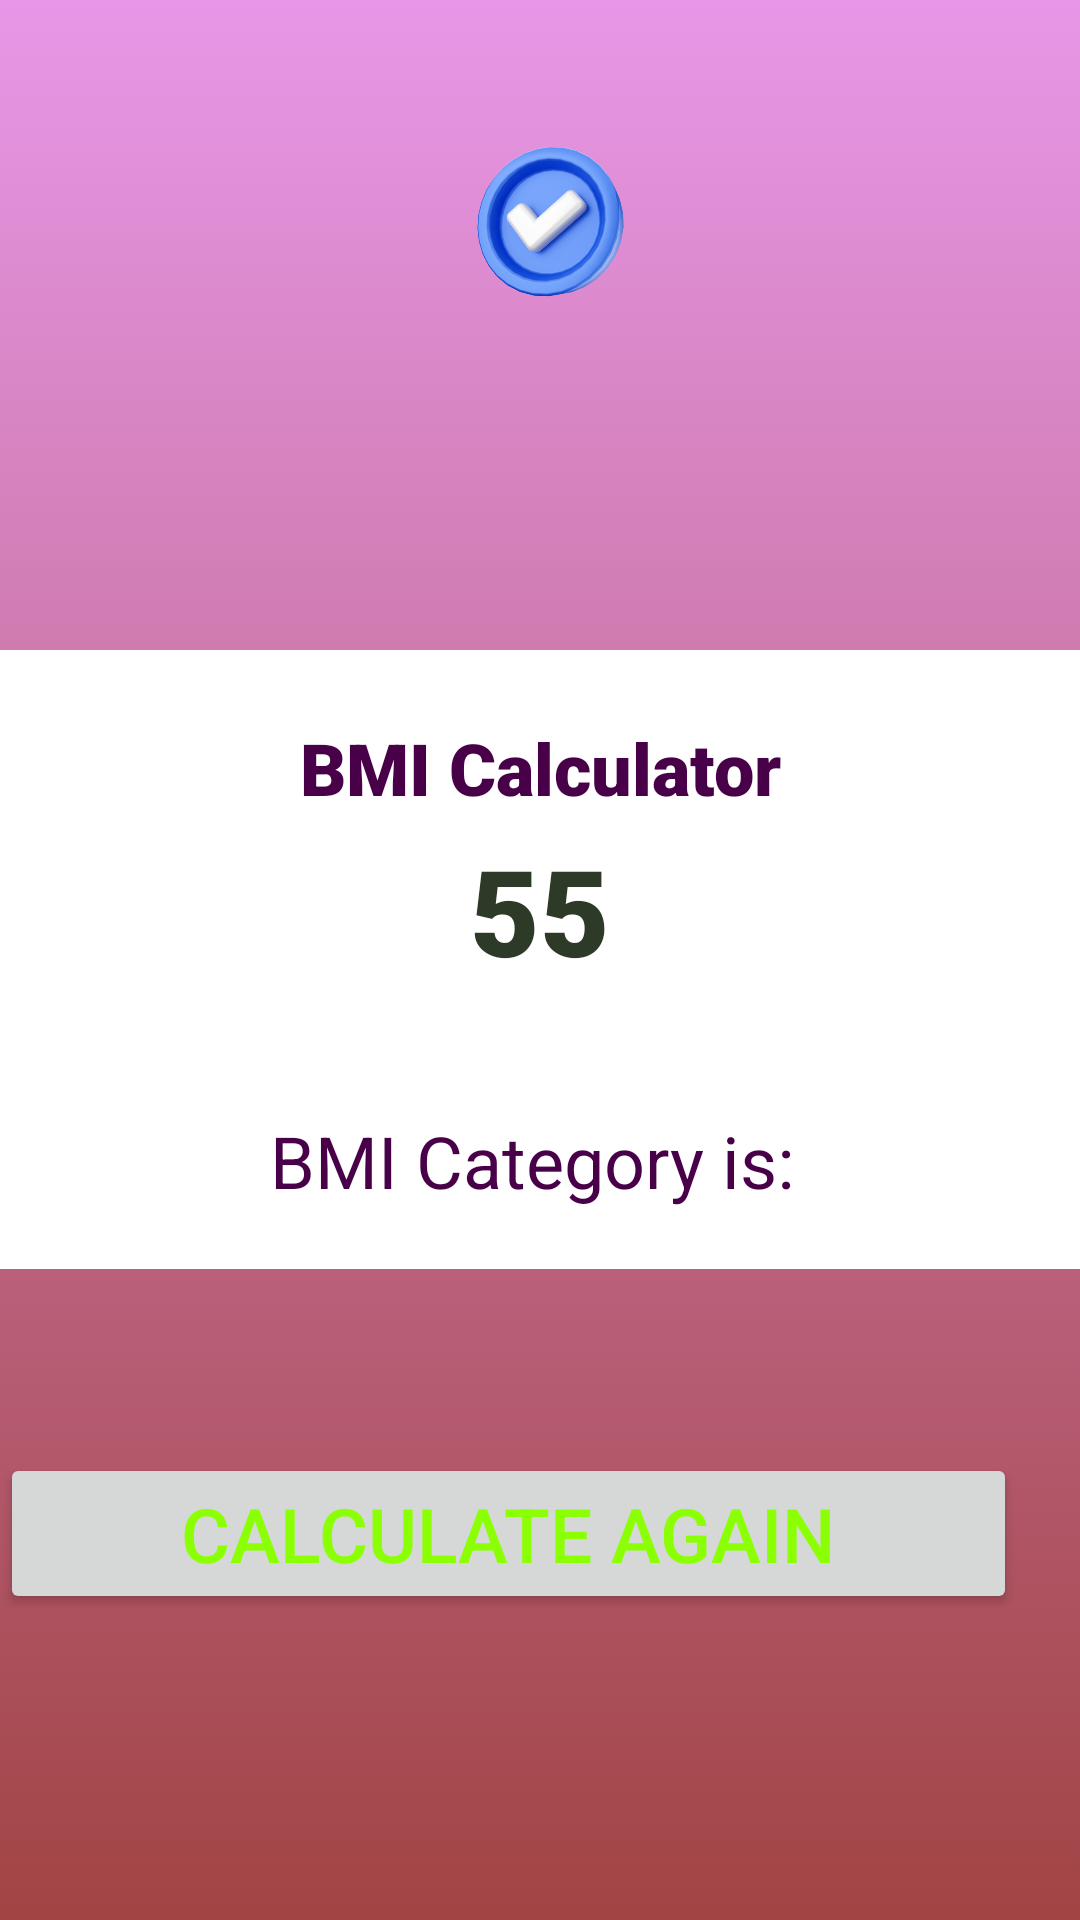

Screen size 1080x1920. Icon name, then its center in pixels as [x,y]:
check: [550,221]
